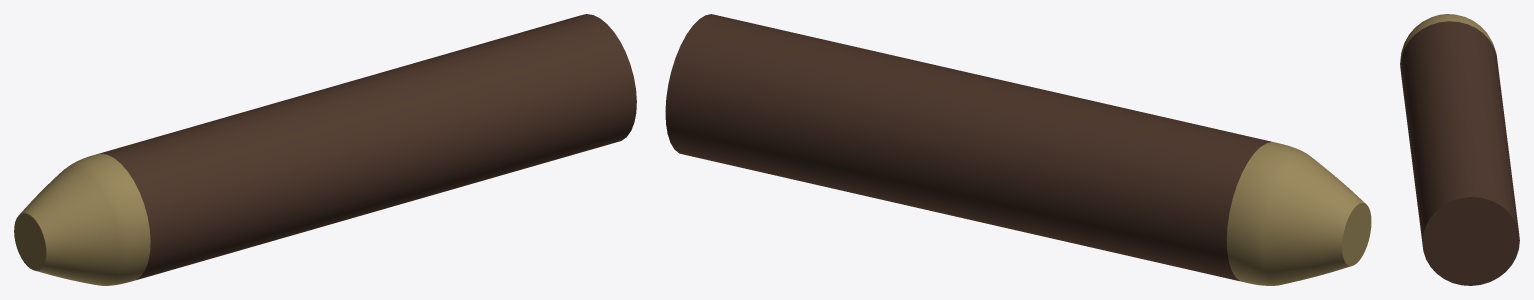
File: charuto.fbx
The picture shows the model from 3 angles, left to right: view 1: azimuth 30°, elevation 25°; view 2: azimuth 150°, elevation 25°; view 3: azimuth 270°, elevation 25°; orthographic projection. The views are drawn at different scales.
Parts seen in each view (by area): view 1: sala_charutos.001; view 2: sala_charutos.001; view 3: sala_charutos.001.
Boxes of the visible parts, x1,y1,x2,y2 form: sala_charutos.001: [14, 14, 636, 285]; sala_charutos.001: [665, 14, 1371, 285]; sala_charutos.001: [1400, 14, 1519, 285].
Bounding box in the file's own units: 15.81 × 3.22 × 3.76.
